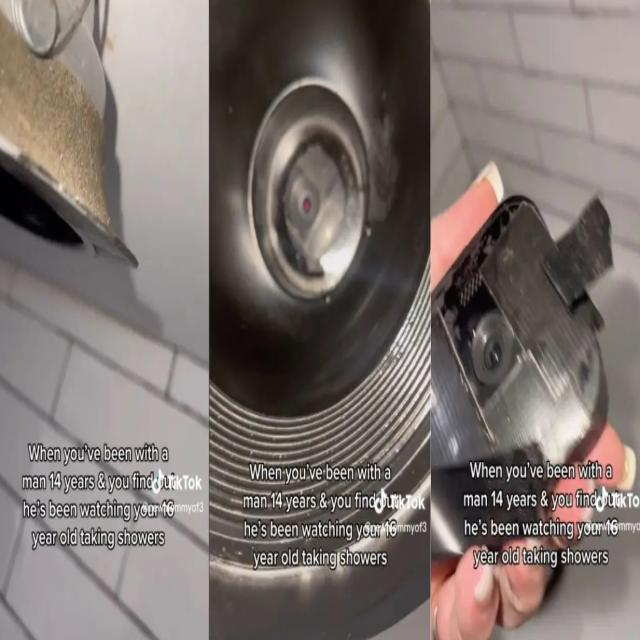hidden camera: (300, 192, 317, 219)
